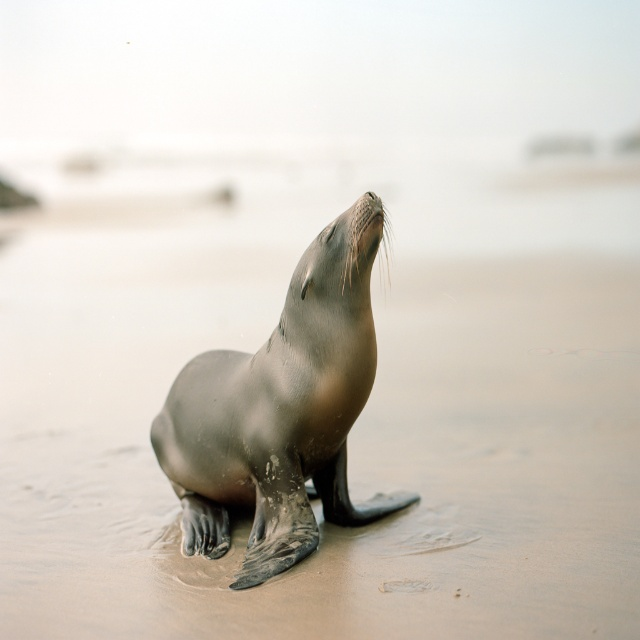Sea lion: (152, 194, 424, 586)
